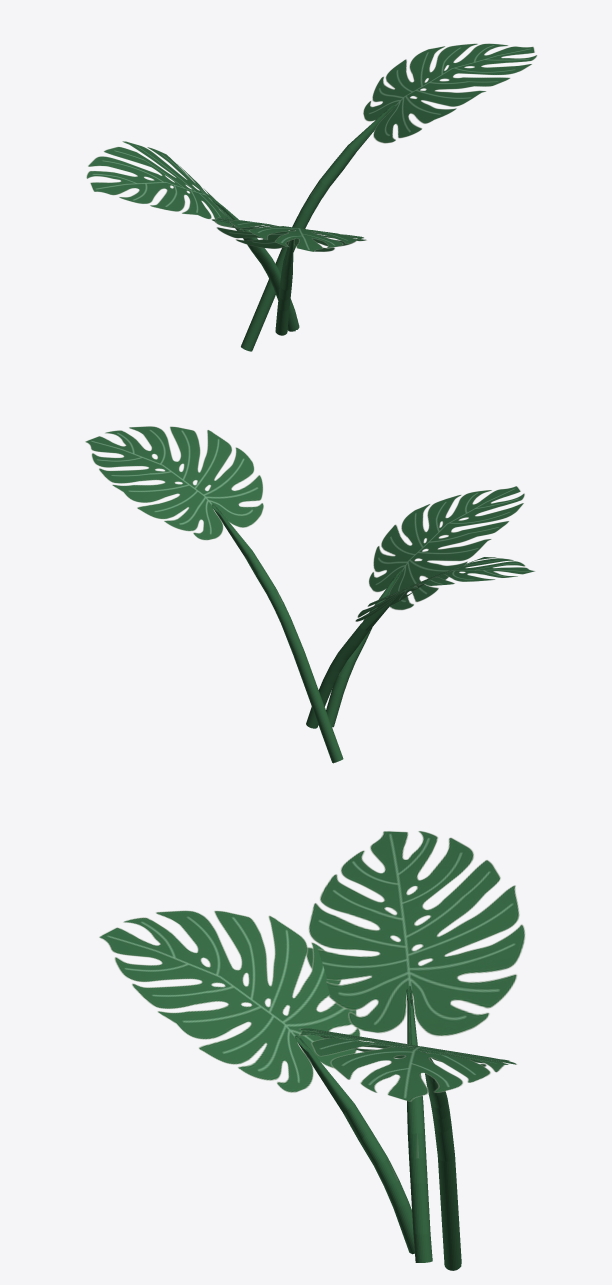
The model's file is monstera.gltf.
3 renders of one model, top to bottom at view 1: azimuth 30°, elevation 25°; view 2: azimuth 150°, elevation 25°; view 3: azimuth 270°, elevation 25°, orthographic. The views are drawn at different scales.
Visible parts, largest first — view 1: Object_4; view 2: Object_4; view 3: Object_4.
Part boxes in pixels (<box>): Object_4: <box>86,43,537,351</box>; Object_4: <box>85,426,535,763</box>; Object_4: <box>99,831,525,1270</box>.
Bounding box in the file's own units: 8.92 × 4.6 × 6.54.
Materials: 1 (1 with a texture image).
